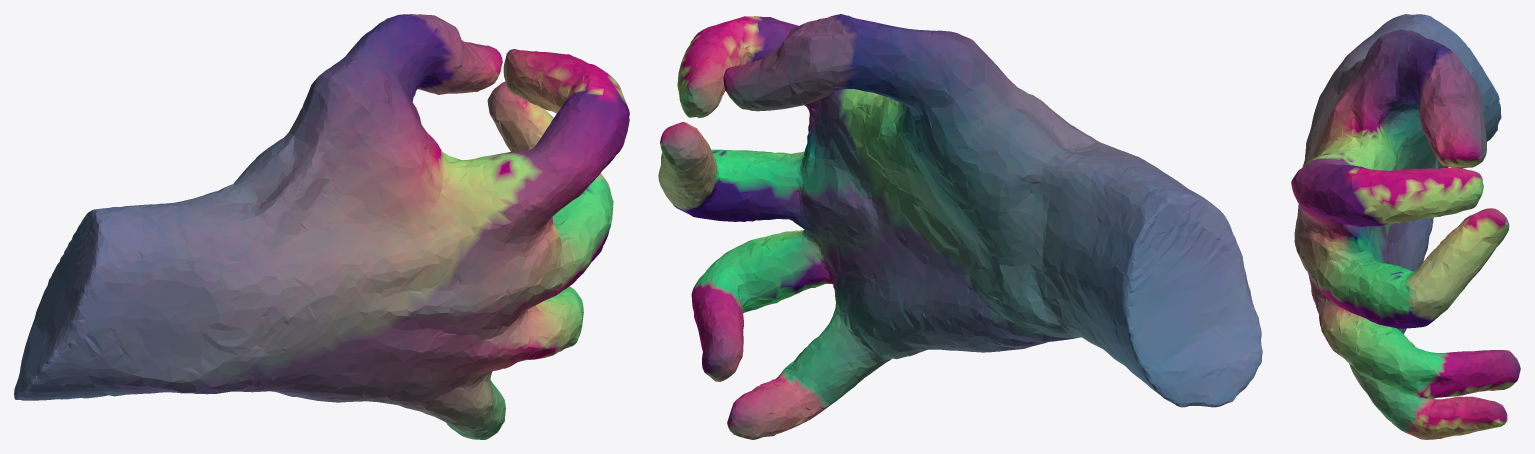
The model's file is hand-16.off.obj.
3 views of the same model, side by side, from view 1: azimuth 30°, elevation 25°; view 2: azimuth 150°, elevation 25°; view 3: azimuth 270°, elevation 25° (orthographic). The views are drawn at different scales.
Bounding box in the file's own units: 1.52 × 1.06 × 0.6103.
